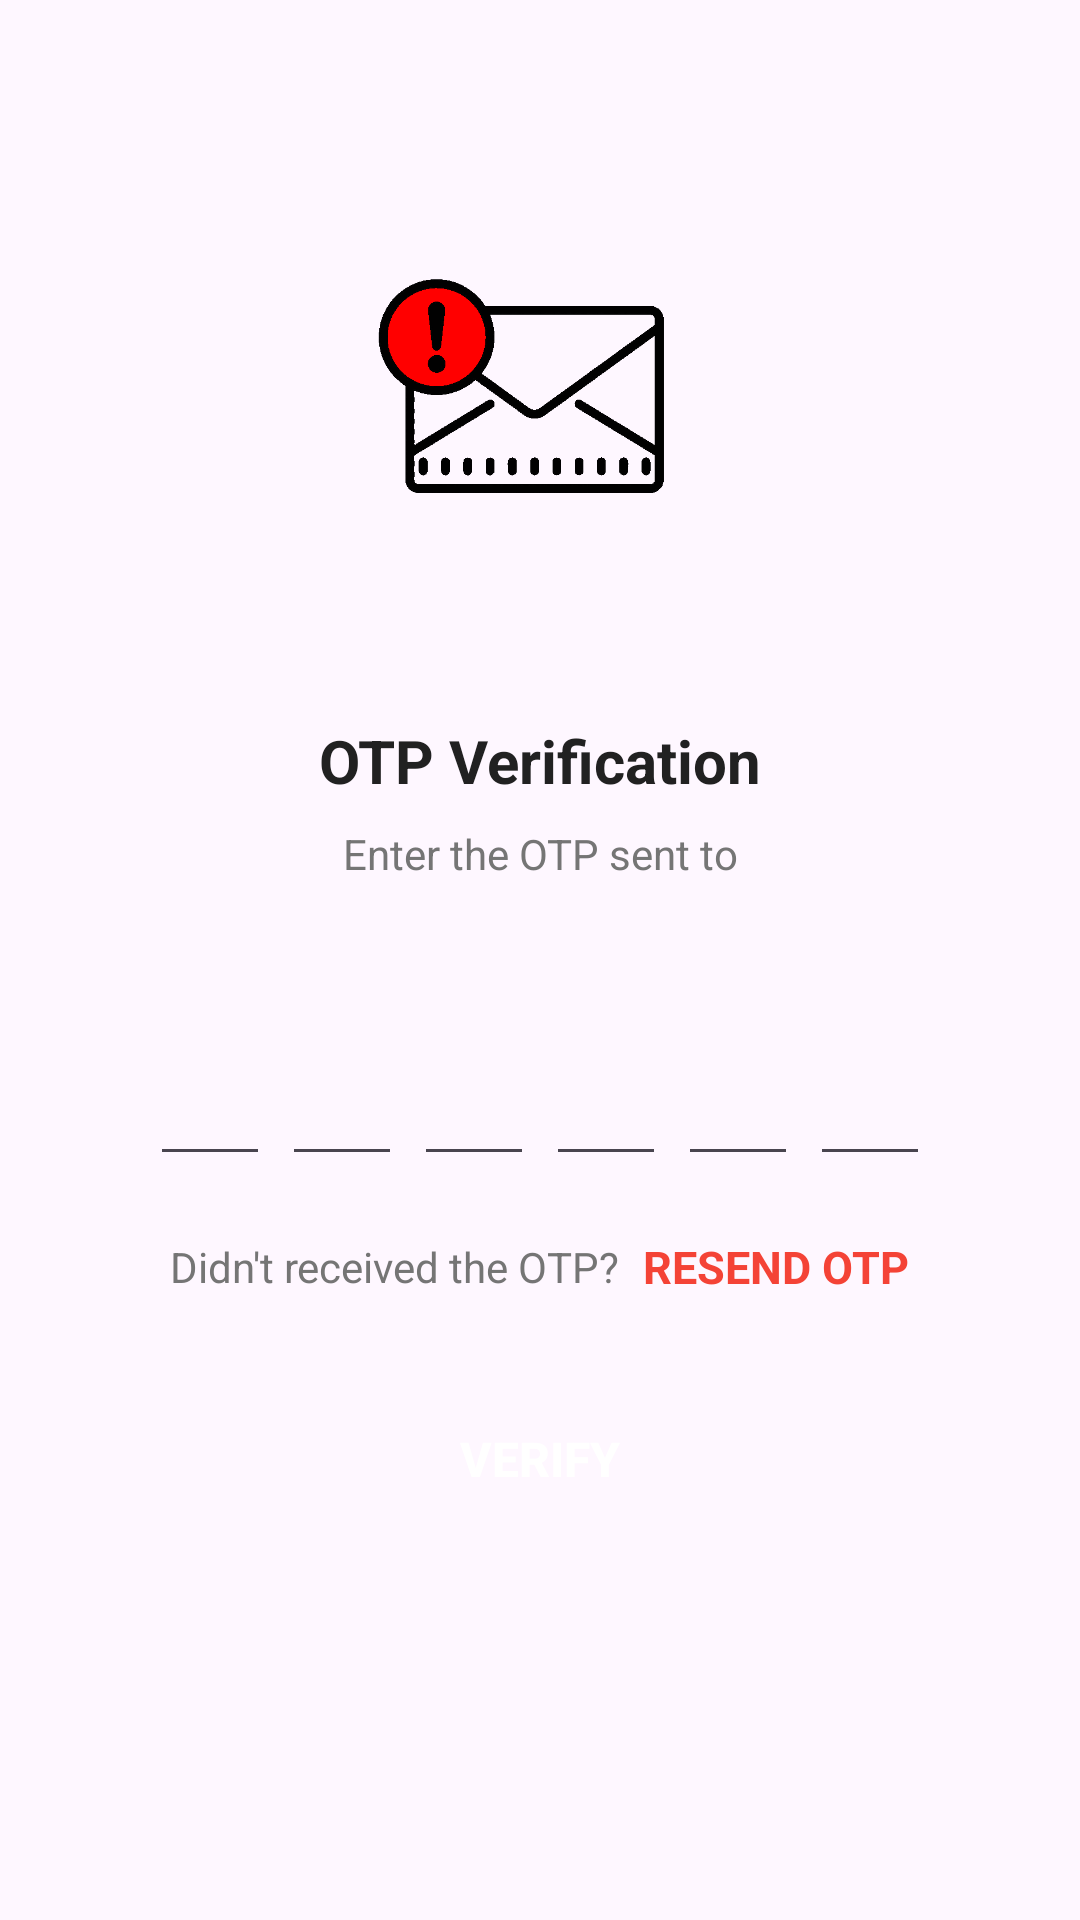

Named icons in this screenshot (1080px x 1920px) and their bounding boxes, region(x1, y1, x2, y2):
received: region(378, 279, 664, 493)
